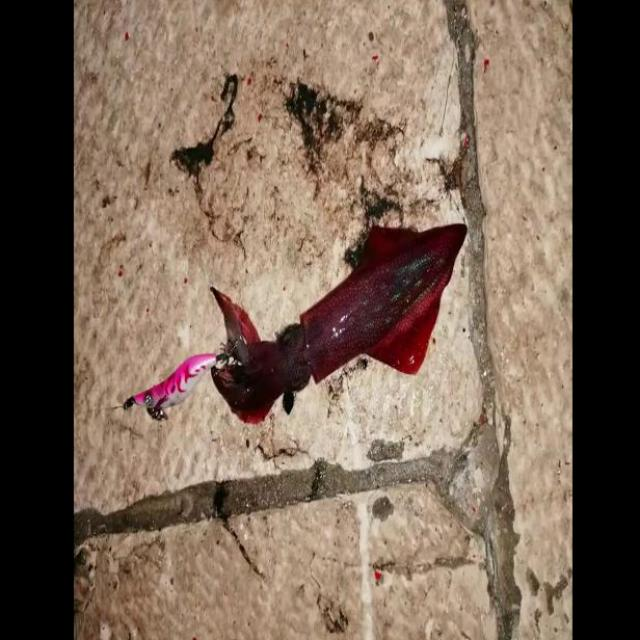SQUID: (185, 203, 484, 442)
